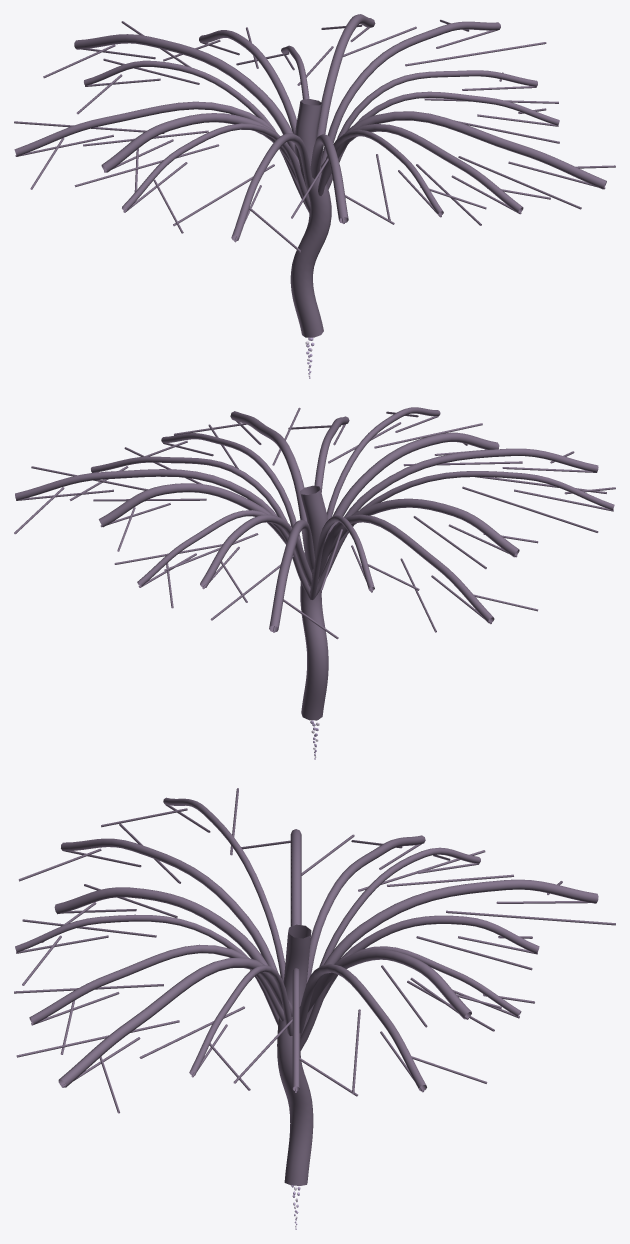
The model's file is wisteria-tree.glb.
3 views of the same model, one above another, from view 1: azimuth 30°, elevation 25°; view 2: azimuth 150°, elevation 25°; view 3: azimuth 270°, elevation 25° (orthographic). The views are drawn at different scales.
Parts seen in each view (by area): view 1: WisteriaTrunk; view 2: WisteriaTrunk; view 3: WisteriaTrunk.
Boxes of the visible parts, bbox=[...] form: WisteriaTrunk: bbox=[14, 14, 615, 337]; WisteriaTrunk: bbox=[14, 407, 615, 720]; WisteriaTrunk: bbox=[14, 788, 615, 1185].
Size of the model in its own units: 18.37 by 10.16 by 16.74.
